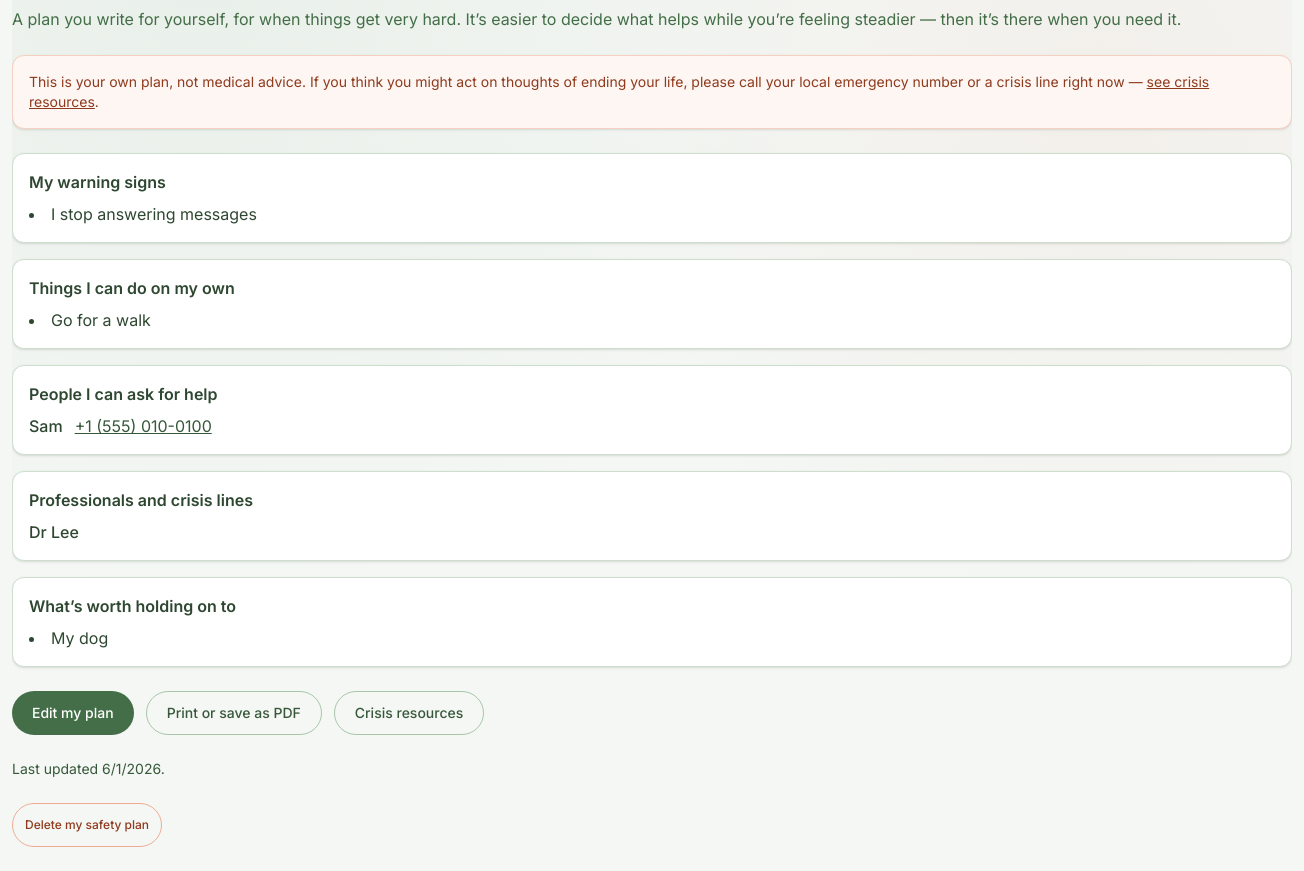
Test: SafetyPlan page (with a plan) › can be edited, and cancelled without losing anything
This screenshot has width=1304, height=871.
Click the button "Edit my plan". click: {"x": 73, "y": 713}
box: [12,691,134,735]
(page scrolled)
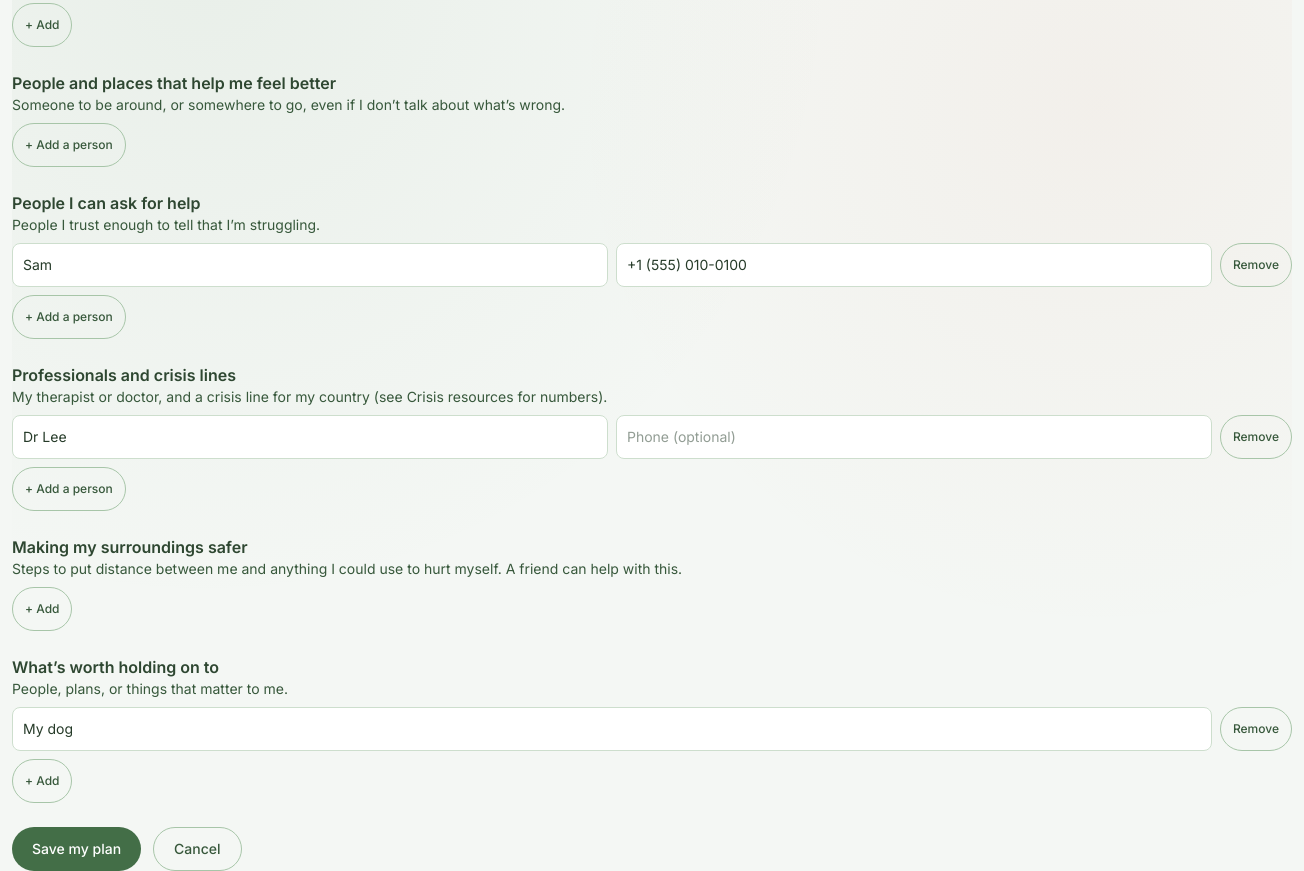
Click the button "Cancel". click: {"x": 197, "y": 849}
box: [153,827,242,870]
(page scrolled)
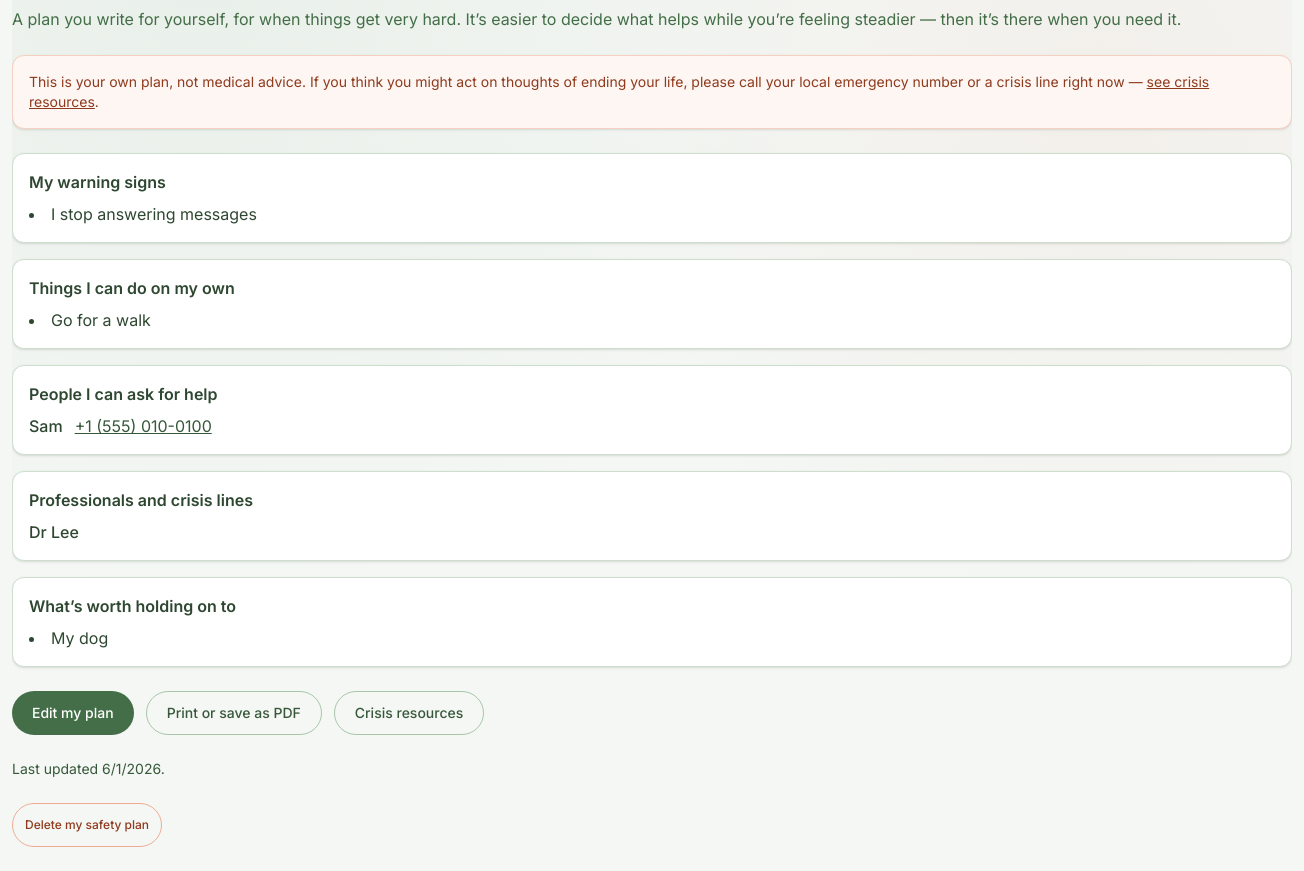
Result: the button "Edit my plan" is shown at [12,691,134,735]
